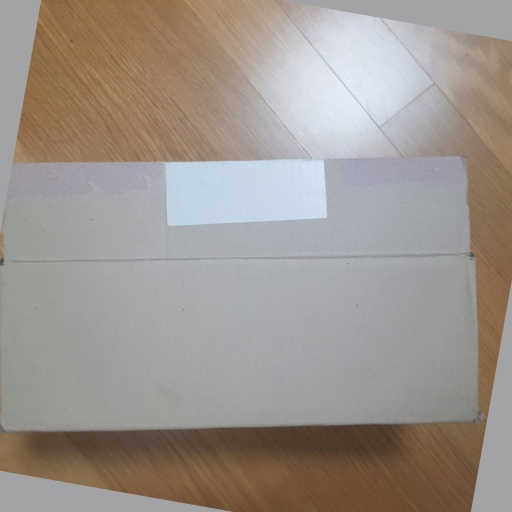Paper_0: (1, 146, 483, 439)
